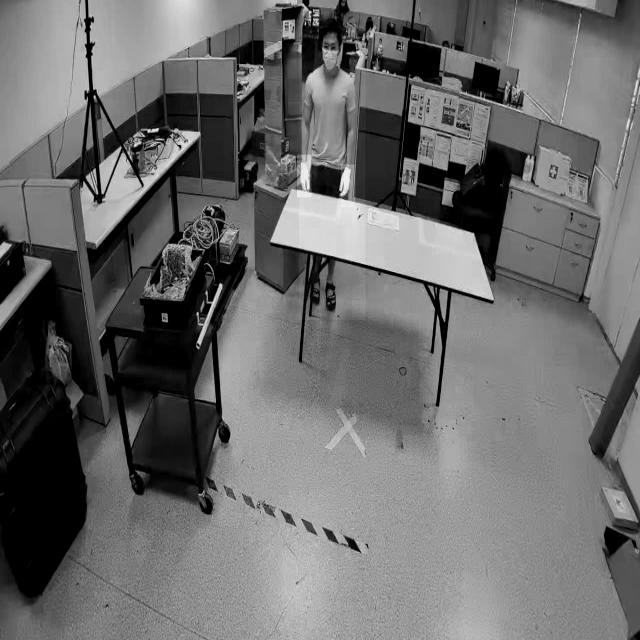face_mask: (319, 29, 341, 79)
hand_glove: (340, 164, 356, 208), (296, 155, 312, 198)
head_nohelmet: (322, 18, 344, 34)
person: (298, 26, 366, 321)
